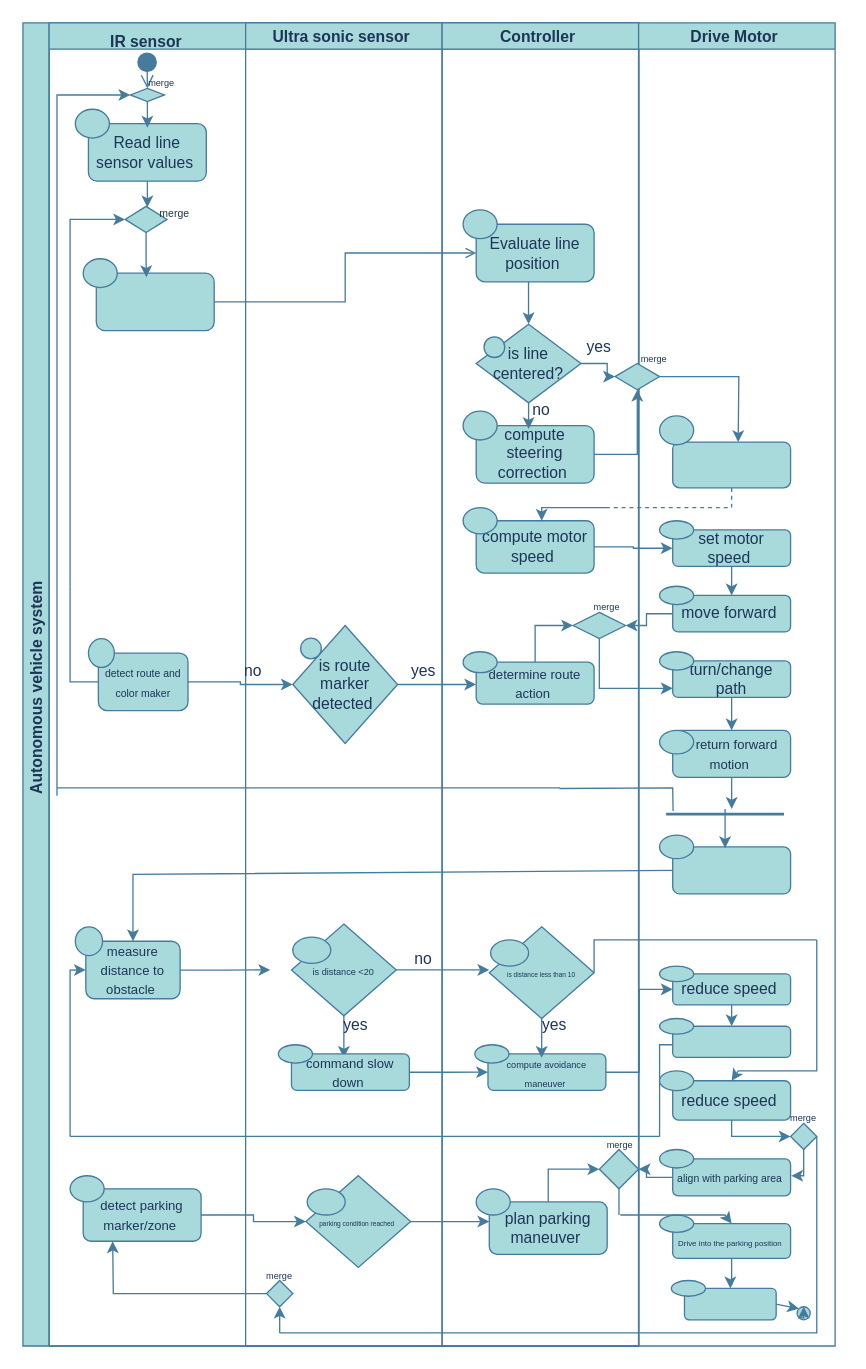
Some shapes in this 866 by 1369 pixel diagram are drawn without their labels. Each missing label, with the centre of its shape:
apply steering correction: (731,464)
continue route monitoring: (731,870)
Detect line position: (154,301)
return to track route: (731,1041)
stop vehicle: (729,1303)
